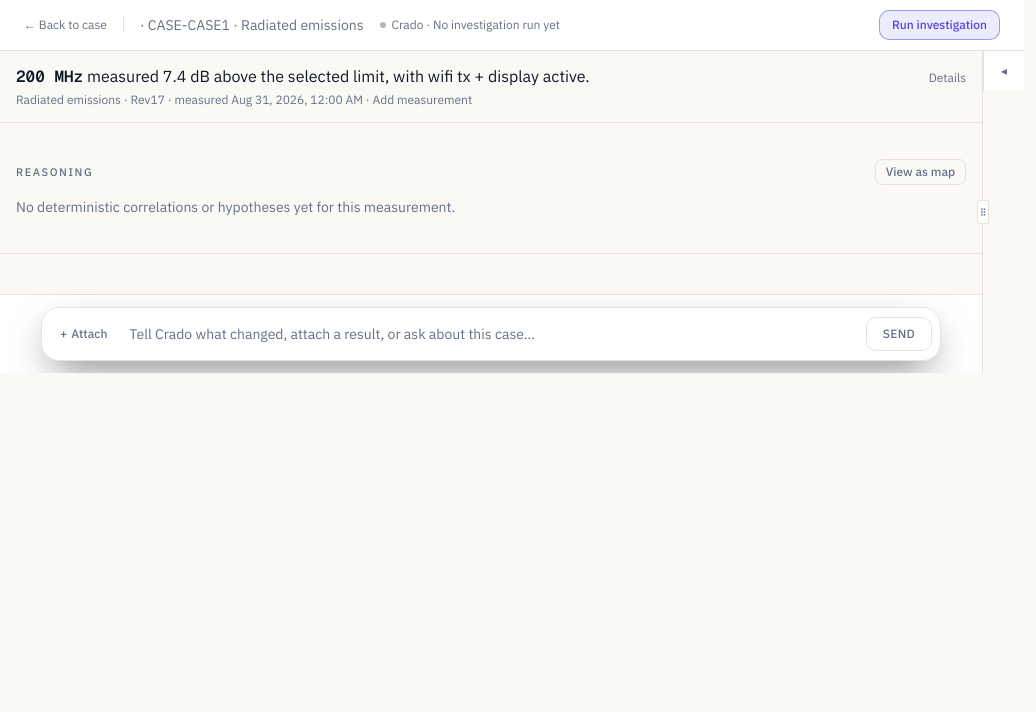
Test case: InvestigationWorkspace — streaming › updates the investigation timeline immediately when a hypothesis streams in, with no refresh (MVP-11 timeline live-update fix)
Expected: the text "History" is not shown
Click the button "Run investigation" at (940, 25), box [879, 10, 1000, 40]
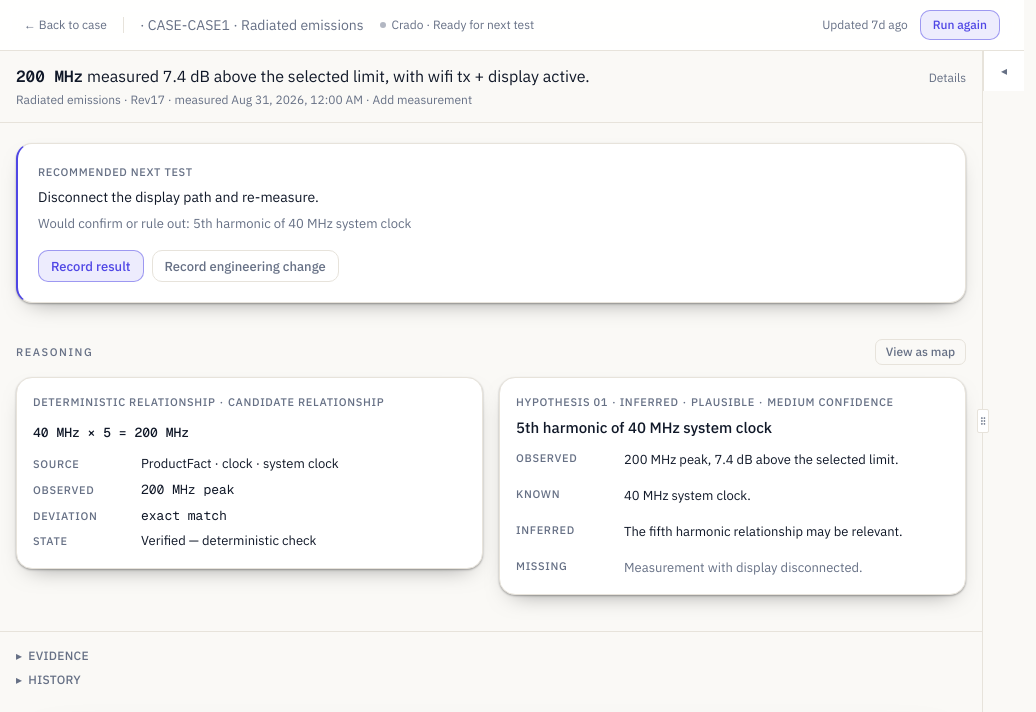
Expected: the button "Run again" is shown, [920, 10, 1000, 40]
Click the heading "▸ History" at (48, 680), box [16, 672, 81, 688]
(page scrolled)
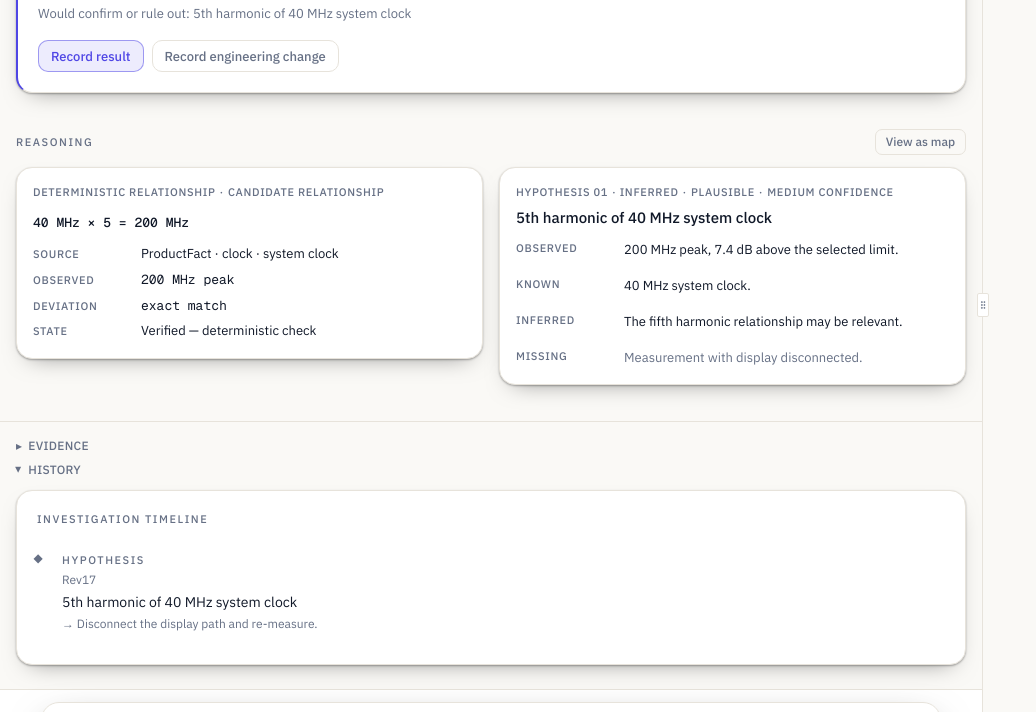
Expected: the text "Hypothesis" is shown, [62, 553, 145, 567]
Expected: the text "5th harmonic of 40 MHz system clock" is shown, [62, 593, 297, 611]
